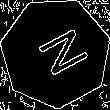N_SW: (24, 23, 87, 82)
